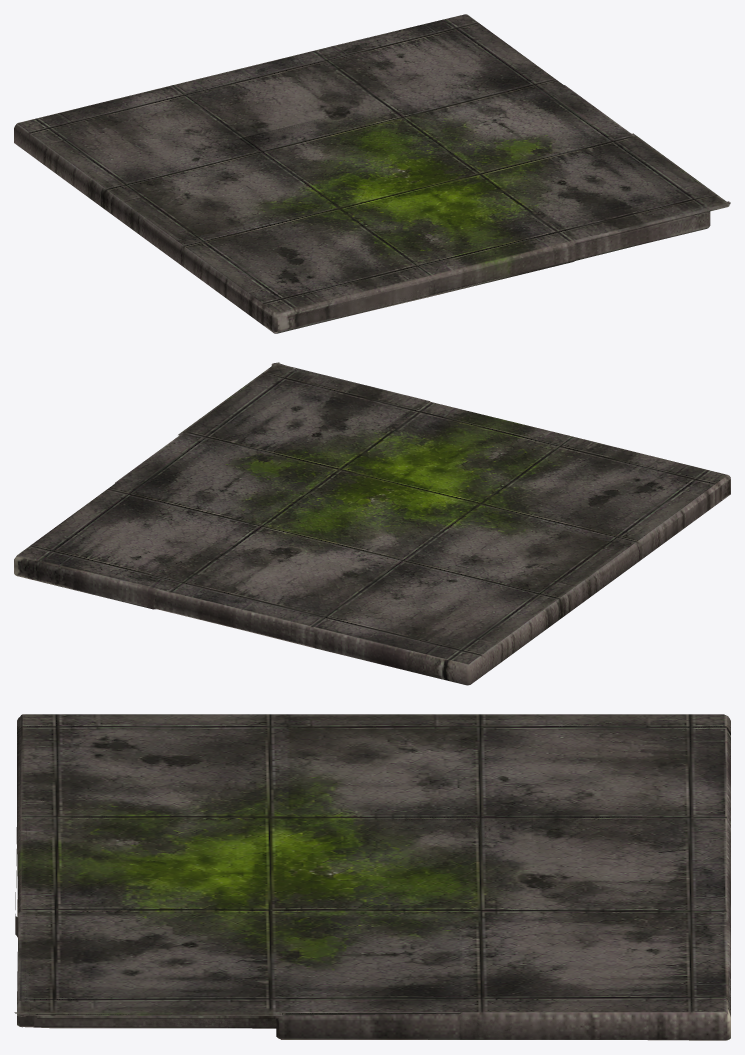
The model's file is Concrete_large_Floor_2.glb.
3 views of the same model, one above another, from view 1: azimuth 30°, elevation 25°; view 2: azimuth 150°, elevation 25°; view 3: azimuth 270°, elevation 25° (orthographic). The views are drawn at different scales.
Bounding box in the file's own units: 1.91 × 0.0822 × 1.91.
1 material, 1 textured.
